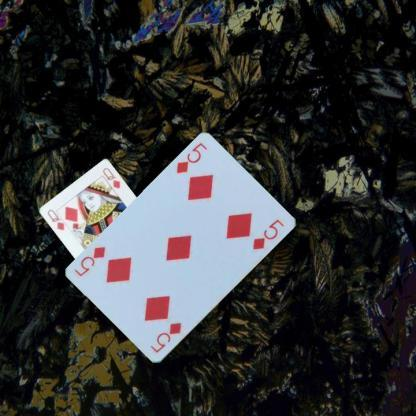5d: (147, 320, 182, 355), (173, 140, 208, 175)
Qd: (45, 207, 71, 232)
